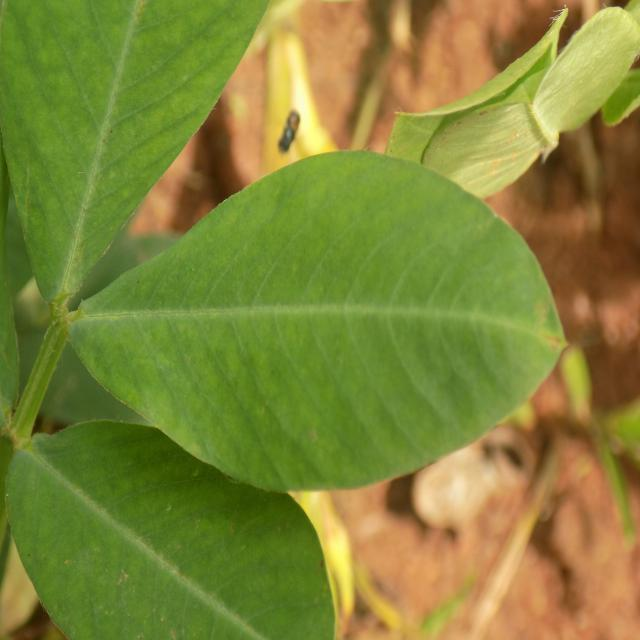Ground nut_healthy: (65, 144, 561, 490)
